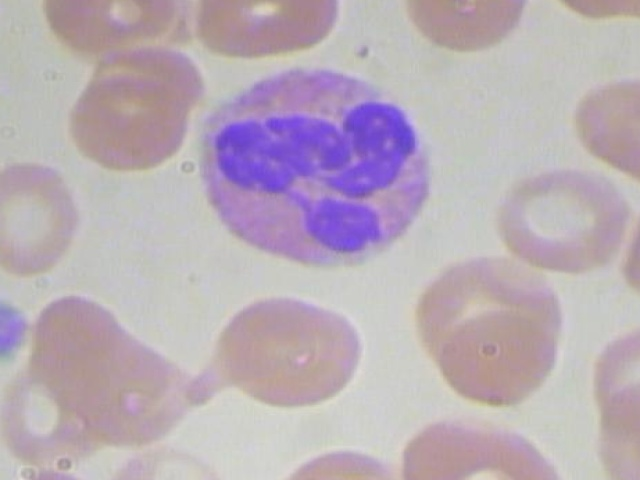Platelets: (0, 290, 32, 365)
RBC: (189, 287, 360, 413), (484, 156, 632, 278), (430, 300, 563, 409), (57, 73, 191, 171), (396, 406, 566, 480), (0, 153, 91, 280), (187, 0, 342, 68), (558, 67, 640, 181), (37, 0, 182, 53), (390, 0, 535, 53), (250, 443, 424, 480), (589, 383, 640, 480), (100, 443, 228, 480), (612, 185, 640, 305), (0, 460, 105, 480)
WBC: (189, 61, 441, 282)
